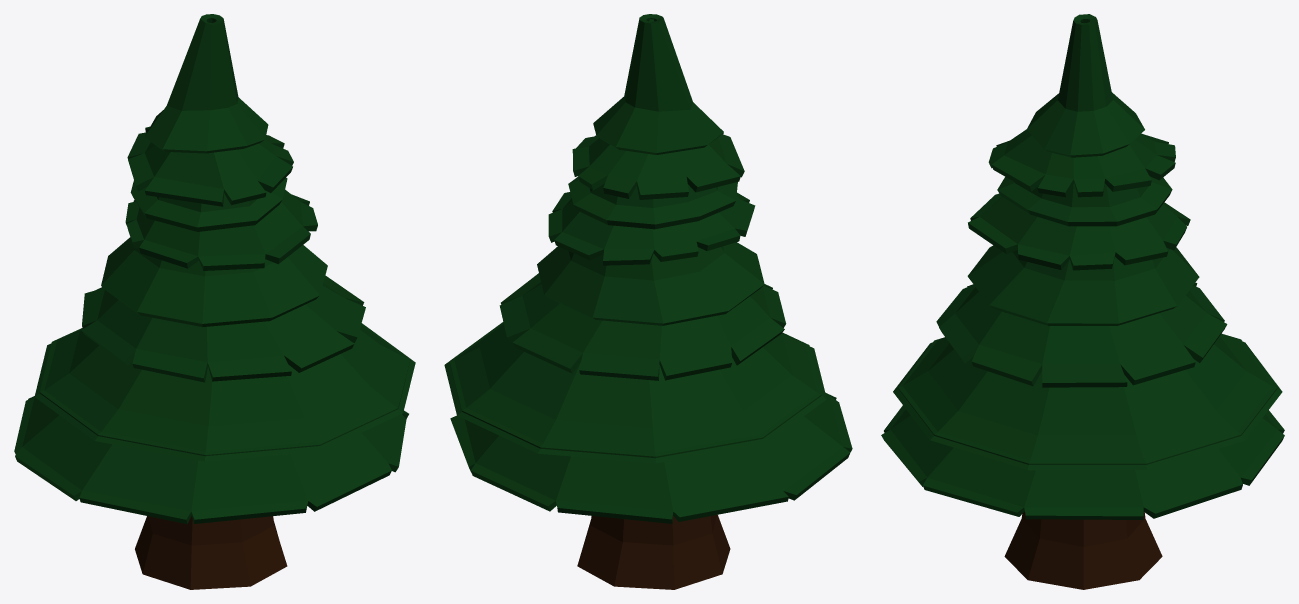
Rendered from pineTree.fbx.
The picture shows the model from 3 angles, left to right: view 1: azimuth 30°, elevation 25°; view 2: azimuth 150°, elevation 25°; view 3: azimuth 270°, elevation 25°; orthographic projection.
Visible parts, largest first — view 1: Cylinder; view 2: Cylinder; view 3: Cylinder.
Part boxes in pixels (bbox=[...]): Cylinder: bbox=[14, 14, 415, 589]; Cylinder: bbox=[444, 14, 852, 589]; Cylinder: bbox=[881, 14, 1284, 589].
Size of the model in its own units: 505 by 752 by 511.
